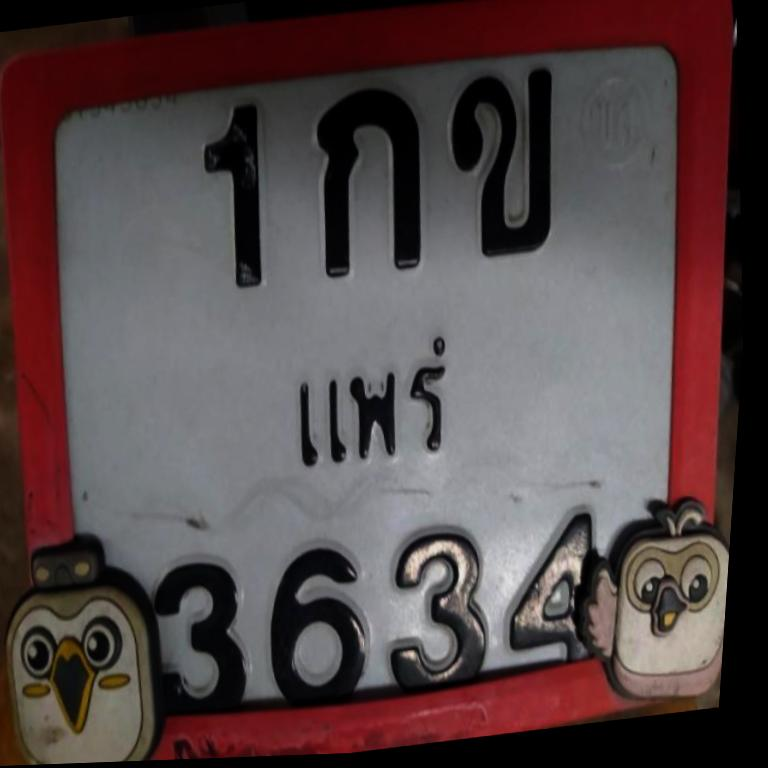license plate: (1, 0, 730, 765)
